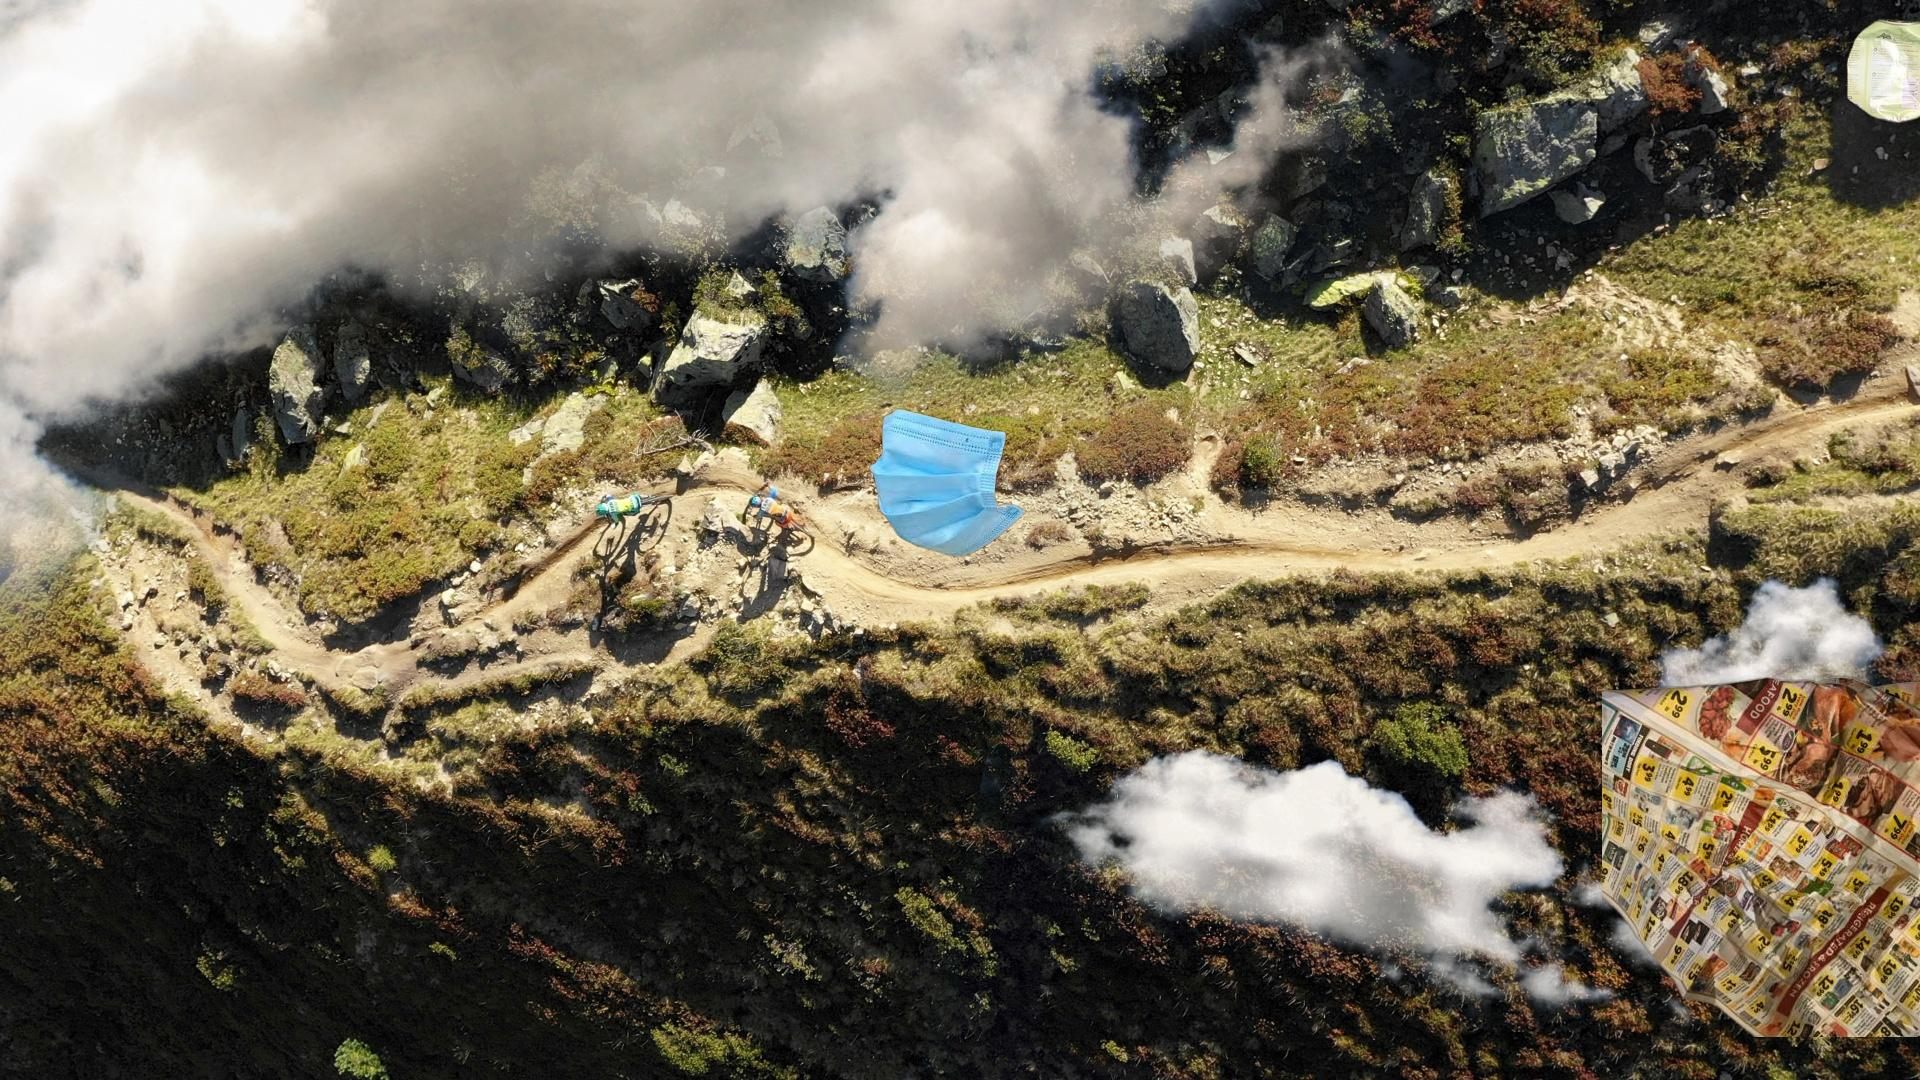metal-cans: (1842, 12, 1920, 130)
paper: (1602, 673, 1920, 1037)
trash: (866, 406, 1029, 559)
